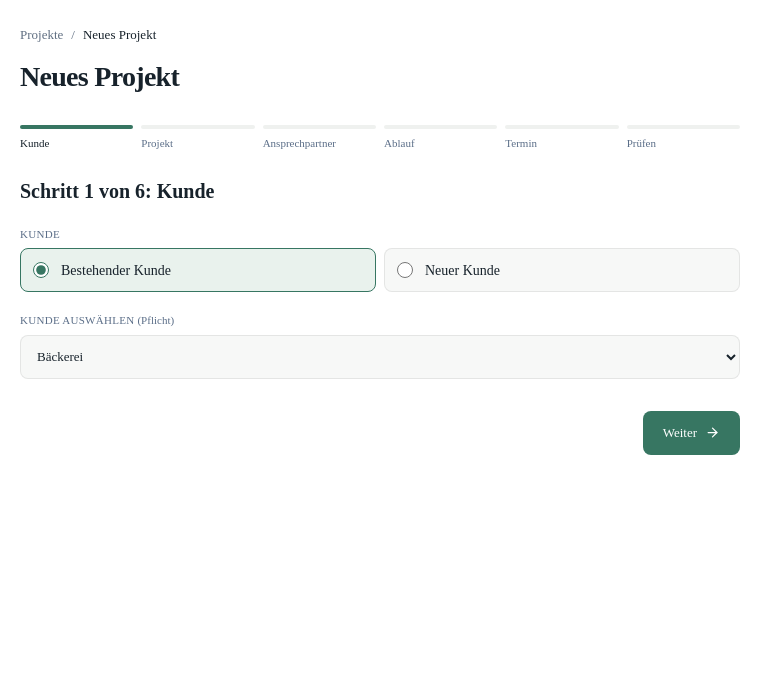
Test case: Ansicht › AK-3: Serverfehler springt zum Schritt mit dem Fehler
Click the button "Weiter" at (691, 433), box [643,411,740,455]
(page scrolled)
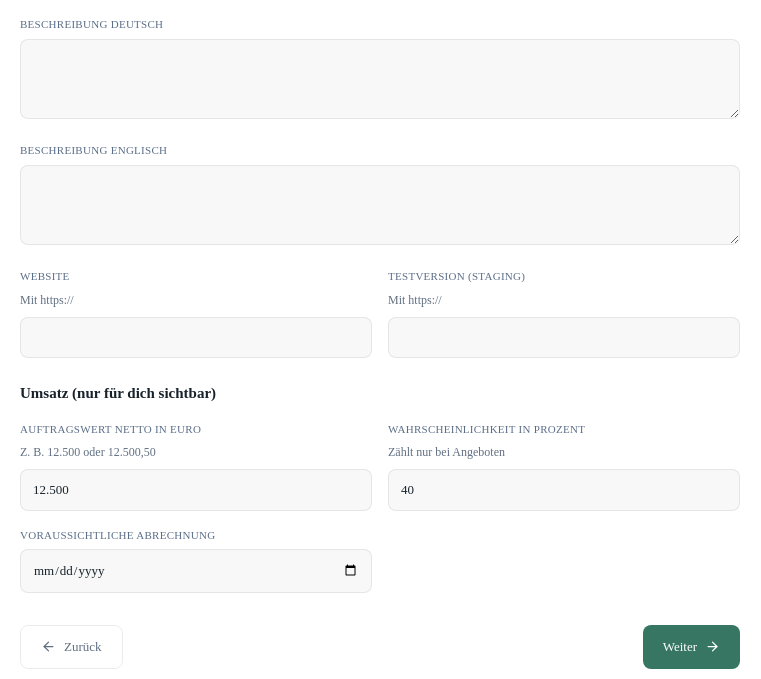
Click the button "Weiter" at (691, 647), box [643,625,740,669]
(page scrolled)
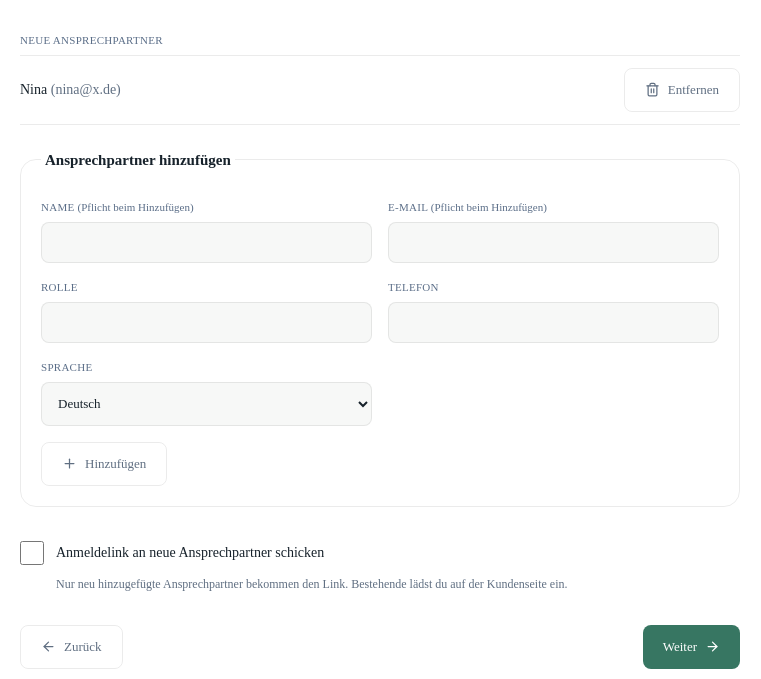
Click the button "Weiter" at (691, 647), box [643,625,740,669]
(page scrolled)
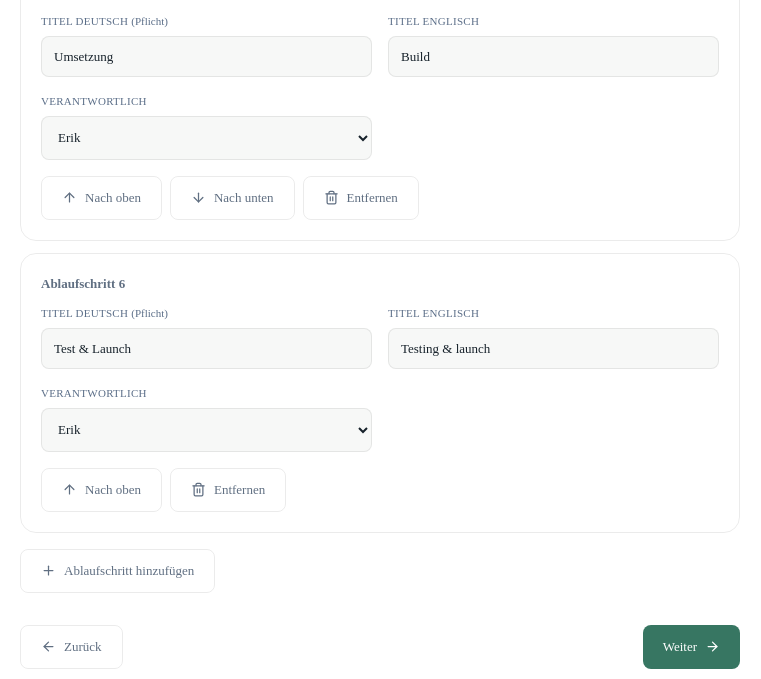
Click the button "Weiter" at (691, 647), box [643,625,740,669]
(page scrolled)
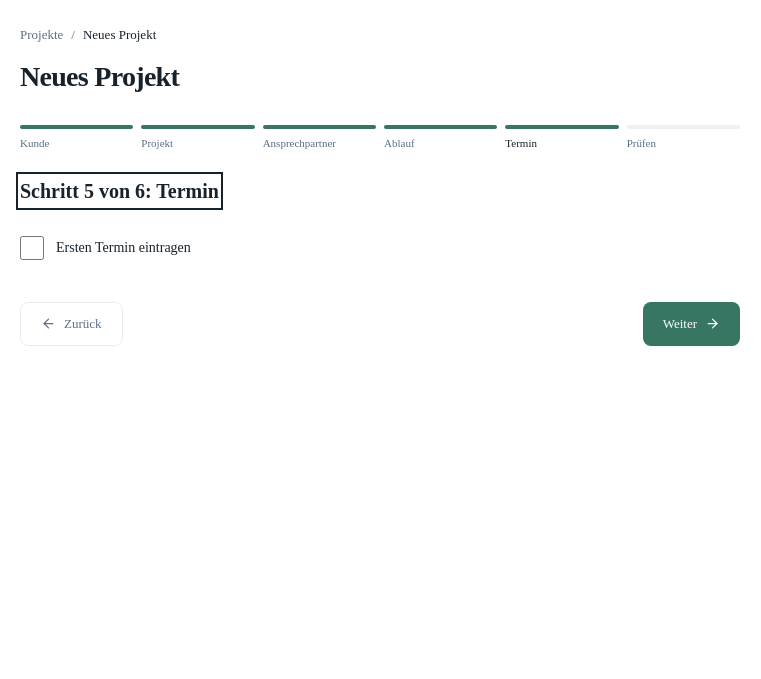
Click the button "Weiter" at (691, 324), box [643,302,740,346]
(page scrolled)
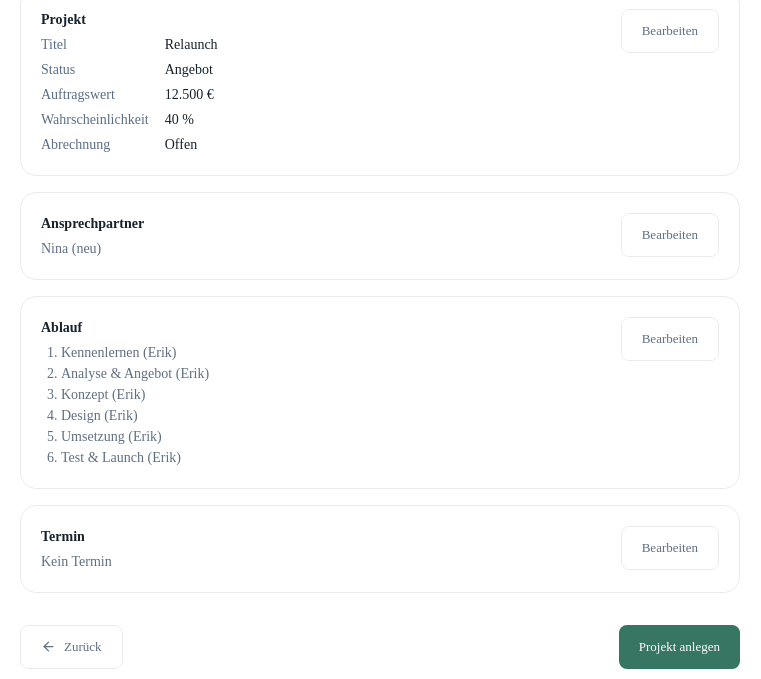
Click the button "Projekt anlegen" at (679, 647), box [619,625,740,669]
(page scrolled)
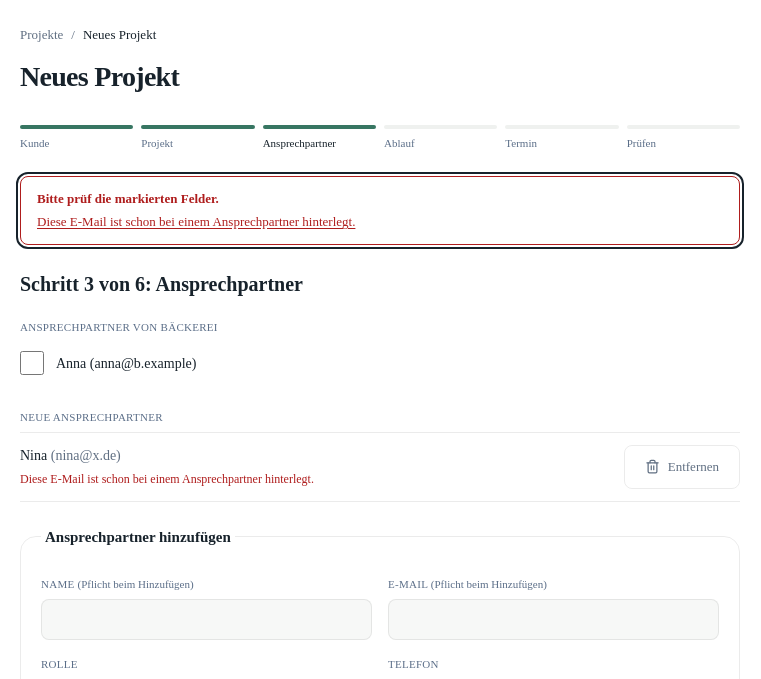
Check: the heading "Schritt 3 von 6: Ansprechpartner" is shown, box [20,269,303,299]
Check: the message shows "Diese E-Mail ist schon bei einem Ansprechpartner hinterlegt.", box [37,214,355,229]
